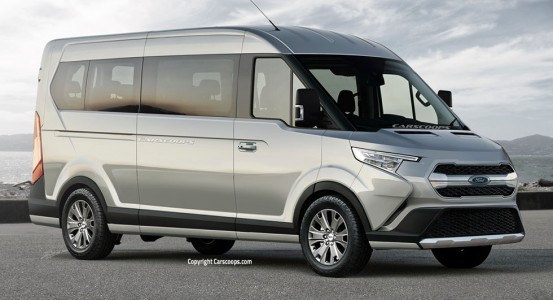van: (28, 23, 528, 278)
